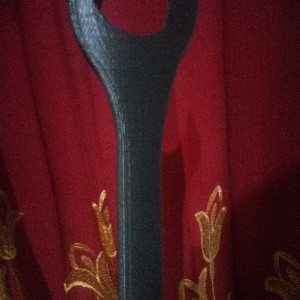spanner: (67, 1, 201, 300)
